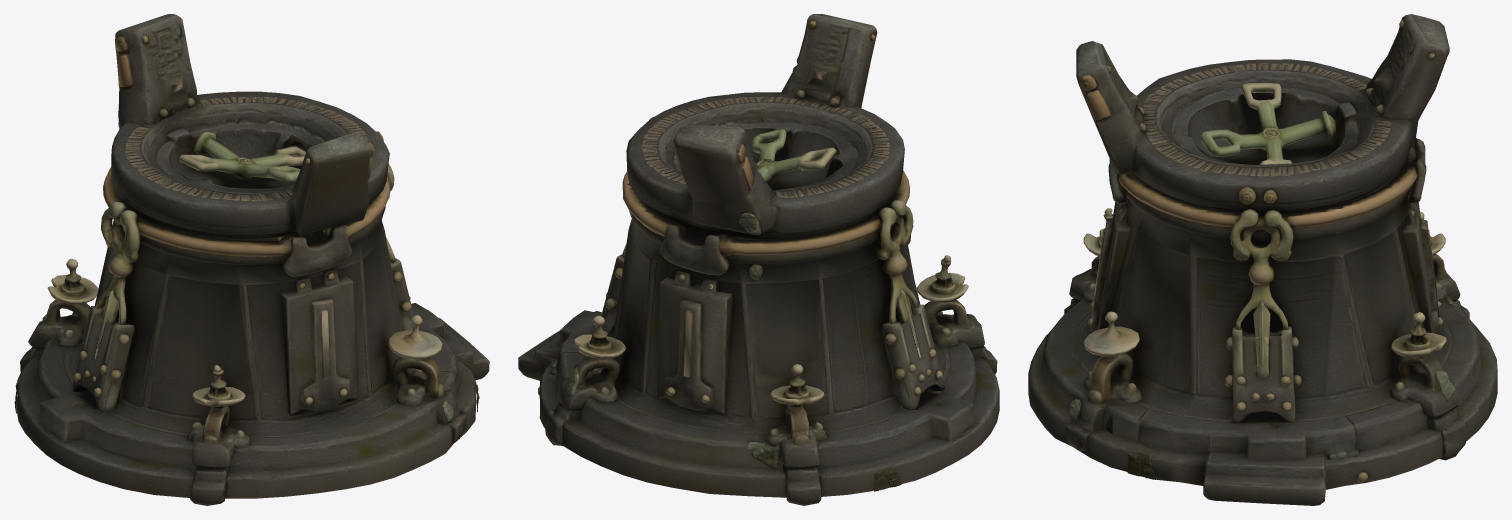
Rendered from ch8_harmonic_key_altar.glb.
3 renders of one model, left to right at view 1: azimuth 30°, elevation 25°; view 2: azimuth 150°, elevation 25°; view 3: azimuth 270°, elevation 25°, orthographic. The views are drawn at different scales.
Parts seen in each view (by area): view 1: tripo_node_63062fc4-c9be-4fcc-b88b-4483c87d165c; view 2: tripo_node_63062fc4-c9be-4fcc-b88b-4483c87d165c; view 3: tripo_node_63062fc4-c9be-4fcc-b88b-4483c87d165c.
Boxes of the visible parts, bbox=[...] form: tripo_node_63062fc4-c9be-4fcc-b88b-4483c87d165c: bbox=[14, 14, 489, 505]; tripo_node_63062fc4-c9be-4fcc-b88b-4483c87d165c: bbox=[518, 14, 999, 505]; tripo_node_63062fc4-c9be-4fcc-b88b-4483c87d165c: bbox=[1028, 14, 1497, 505].
Size of the model in its own units: 0.998 by 0.7715 by 0.9121.
Materials: 1 (1 with a texture image).
